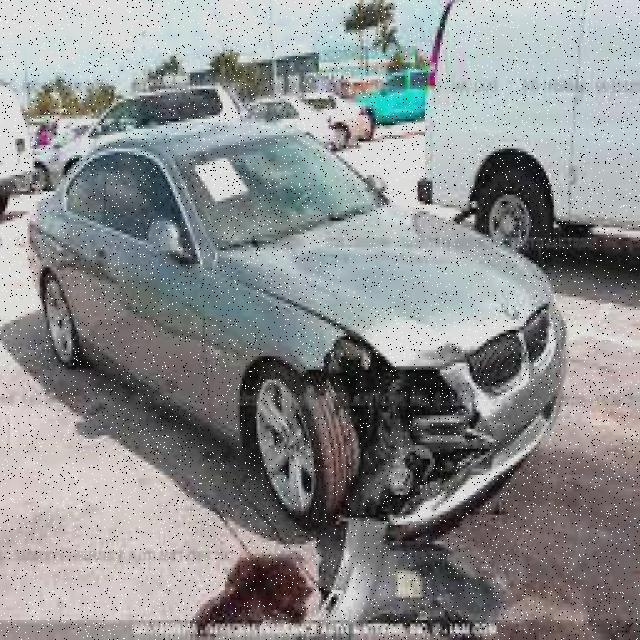car damage: (299, 332, 499, 620)
